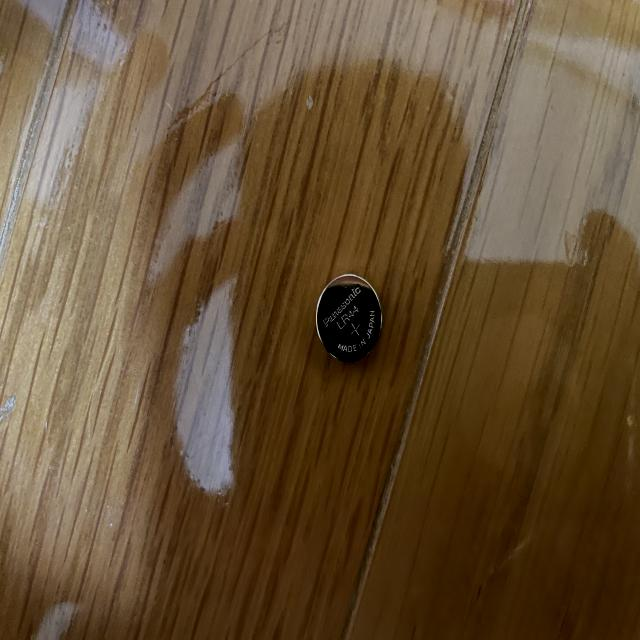COIN: (316, 273, 386, 364)
